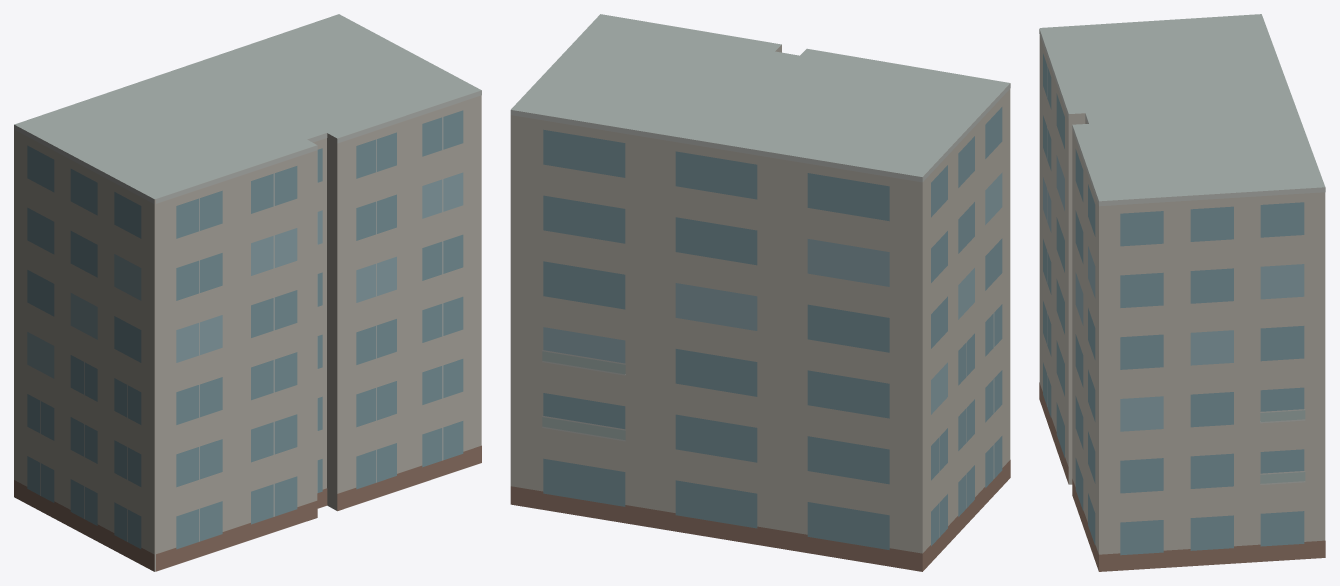
The model's file is survey-upis-33013015.glb.
The picture shows the model from 3 angles, left to right: view 1: azimuth 30°, elevation 25°; view 2: azimuth 150°, elevation 25°; view 3: azimuth 270°, elevation 25°; orthographic projection. The views are drawn at different scales.
Visible parts, largest first — view 1: survey-upis-33013015.tmp; view 2: survey-upis-33013015.tmp; view 3: survey-upis-33013015.tmp.
Part boxes in pixels (x1,y1,x2,y2): survey-upis-33013015.tmp: (14, 14, 481, 571); survey-upis-33013015.tmp: (510, 14, 1010, 571); survey-upis-33013015.tmp: (1039, 14, 1325, 571).
Bounding box in the file's own units: 19.84 × 18.3 × 12.81.
